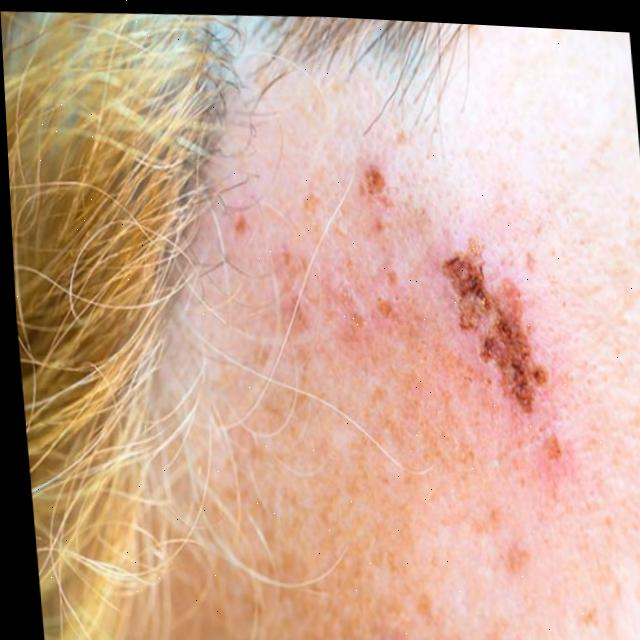Shingles: (432, 234, 560, 414)
